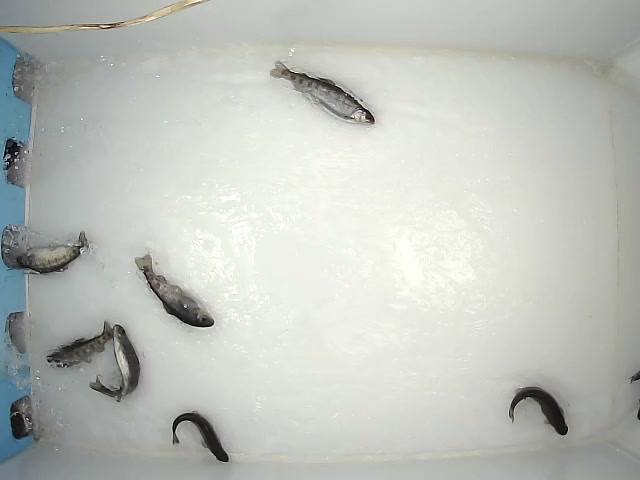fish: (269, 59, 376, 127), (133, 253, 216, 329), (89, 324, 142, 405), (45, 320, 118, 369), (14, 229, 92, 274), (171, 410, 230, 465), (507, 386, 569, 437)
